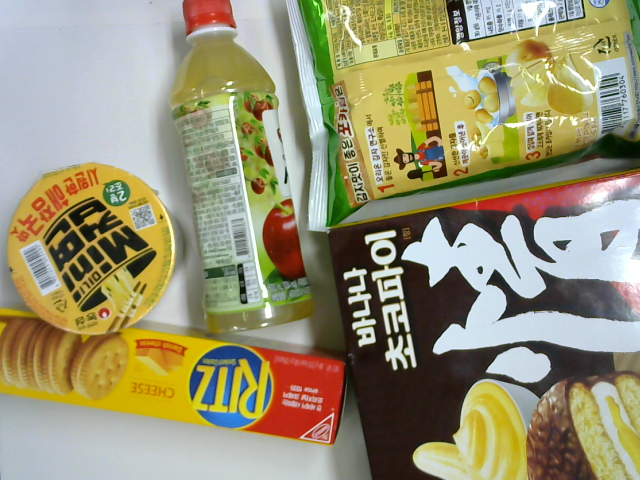Choco_Pie_Banana: (323, 167, 640, 480)
Hejangmini: (7, 159, 186, 336)
Morning_Apple_500ml: (169, 1, 319, 341)
Pocachip_Onion: (282, 1, 640, 236)
Ritz_Sand_Cracker: (1, 306, 349, 450)
